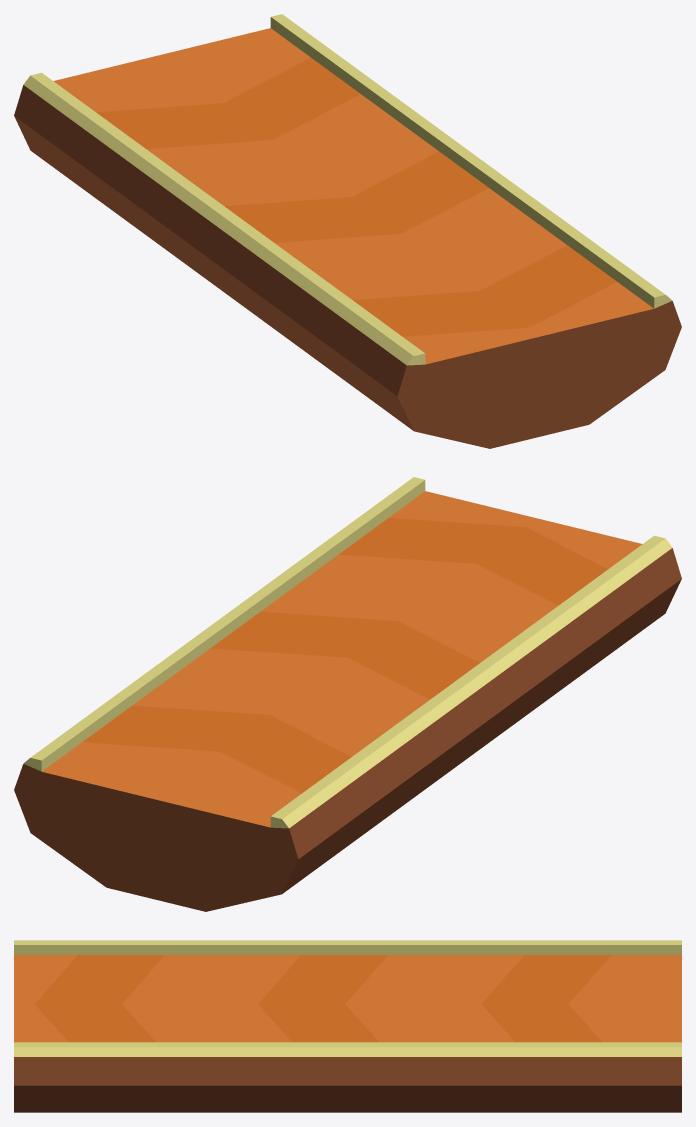
File: gemi_uclu_parca.fbx
3 renders of one model, top to bottom at view 1: azimuth 30°, elevation 25°; view 2: azimuth 150°, elevation 25°; view 3: azimuth 270°, elevation 25°, orthographic. The views are drawn at different scales.
Visible parts, largest first — view 1: 3lü; view 2: 3lü; view 3: 3lü.
Boxes of the visible parts, box(x1,y1,x2,y2) form: 3lü: box(14, 14, 681, 448); 3lü: box(14, 477, 681, 911); 3lü: box(14, 940, 681, 1112).
Size of the model in its own units: 514 by 192 by 1200.
Materials: 3 (1 with a texture image).
